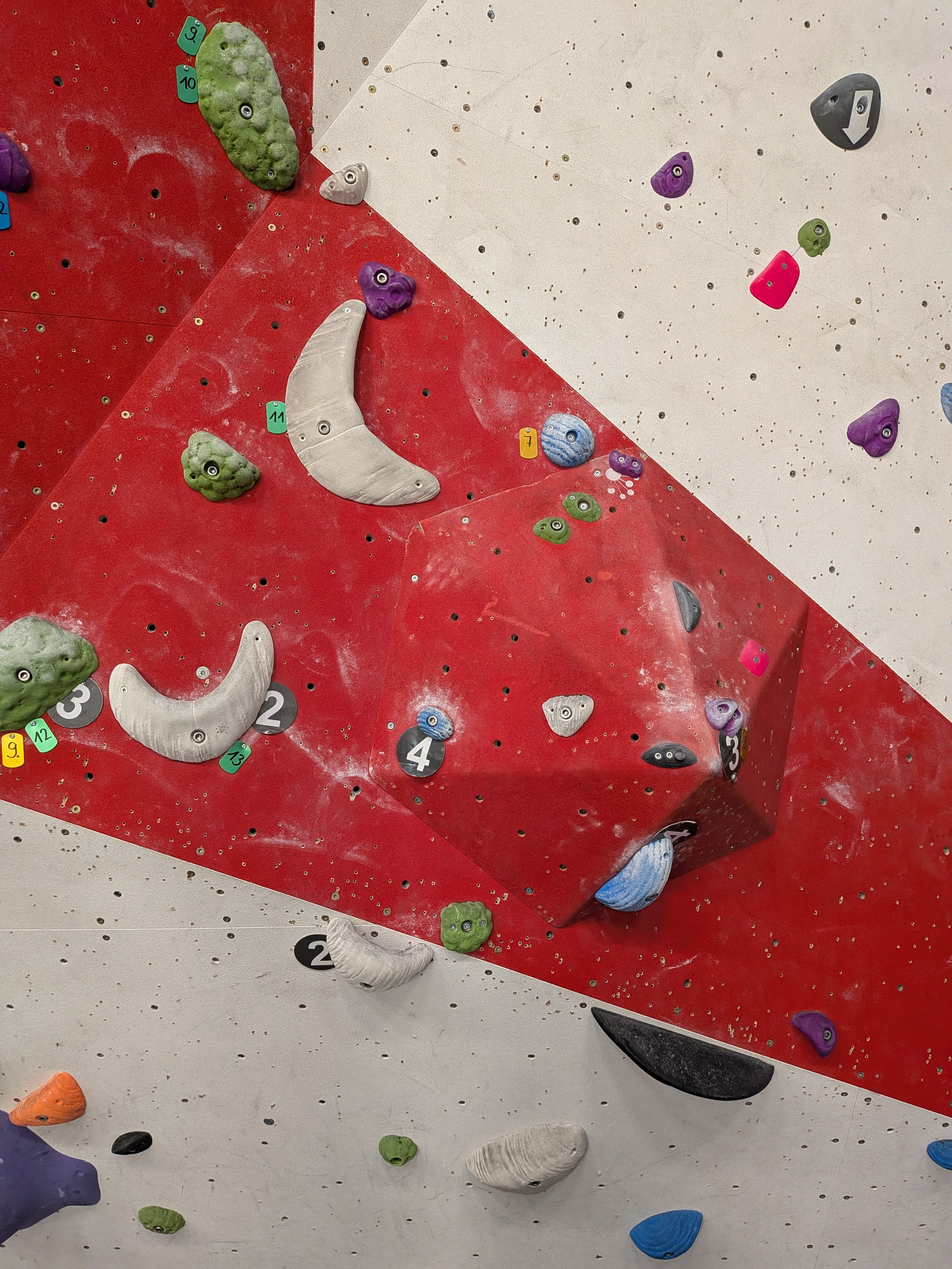hold: (284, 300, 439, 506), (105, 622, 272, 763), (193, 23, 297, 191), (591, 1007, 774, 1101), (0, 1110, 100, 1243), (0, 617, 97, 730), (466, 1123, 588, 1195), (328, 916, 432, 990), (594, 836, 673, 911), (181, 430, 260, 500), (811, 75, 881, 150), (10, 1072, 86, 1125), (630, 1210, 702, 1258), (359, 263, 415, 317), (848, 400, 900, 457), (542, 414, 595, 468), (751, 251, 799, 308), (441, 901, 493, 952), (319, 163, 367, 205), (545, 695, 594, 736), (793, 1011, 836, 1056), (651, 152, 693, 198), (0, 134, 27, 192), (708, 699, 746, 740), (676, 581, 702, 631), (646, 744, 697, 769), (138, 1206, 185, 1233), (798, 219, 830, 257), (379, 1135, 417, 1166), (417, 708, 454, 739), (564, 492, 601, 521), (536, 516, 572, 544), (743, 640, 770, 677), (609, 452, 645, 478), (112, 1133, 152, 1155), (927, 1139, 952, 1169), (941, 382, 952, 422)
volume: (368, 446, 811, 926)
